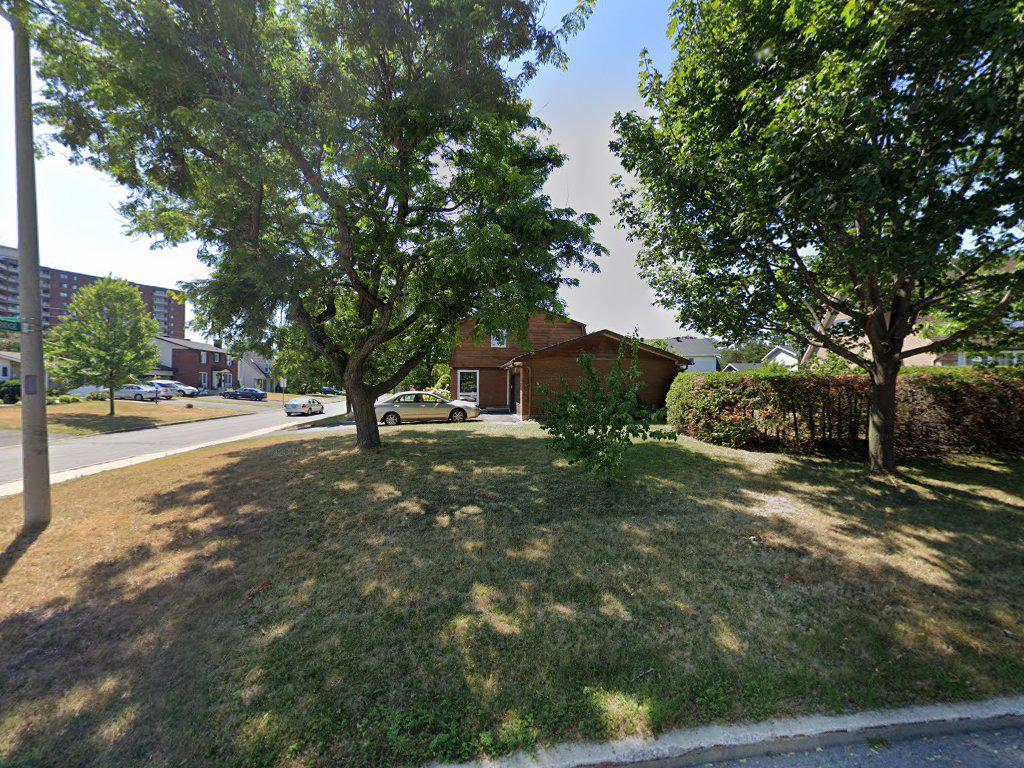trunk: (335, 345, 392, 462), (861, 321, 895, 480)
